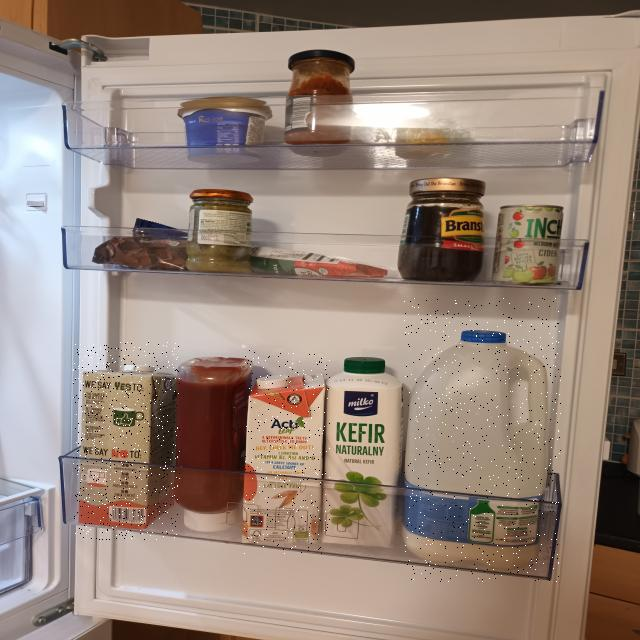milk: (404, 298, 561, 582), (73, 342, 180, 540), (244, 350, 330, 554)
